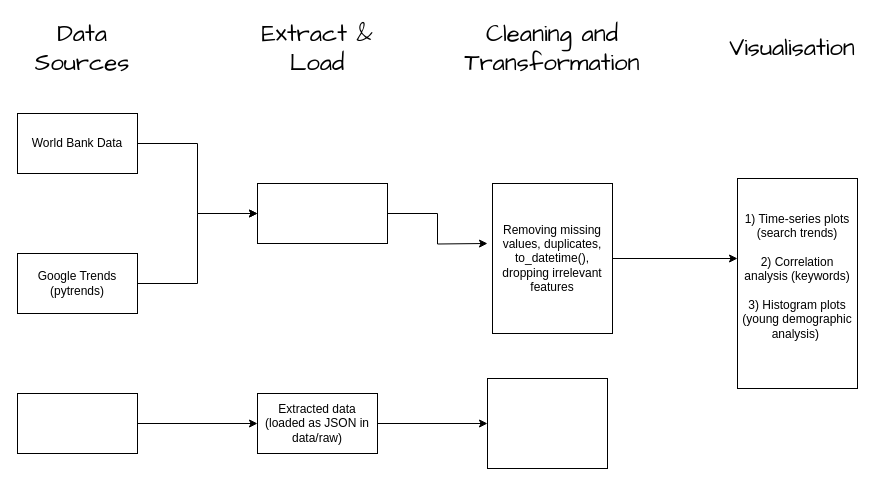
Some shapes in this 875 by 486 pixel diagram are drawn without their labels. Each missing label, with the centre of its shape:
(source_name, title, description, content) from dumped JSON object: pixel 547 423
Extracted data (loaded as CSV in data/raw): pixel 322 213
NewsAPI news articles: pixel 77 423
